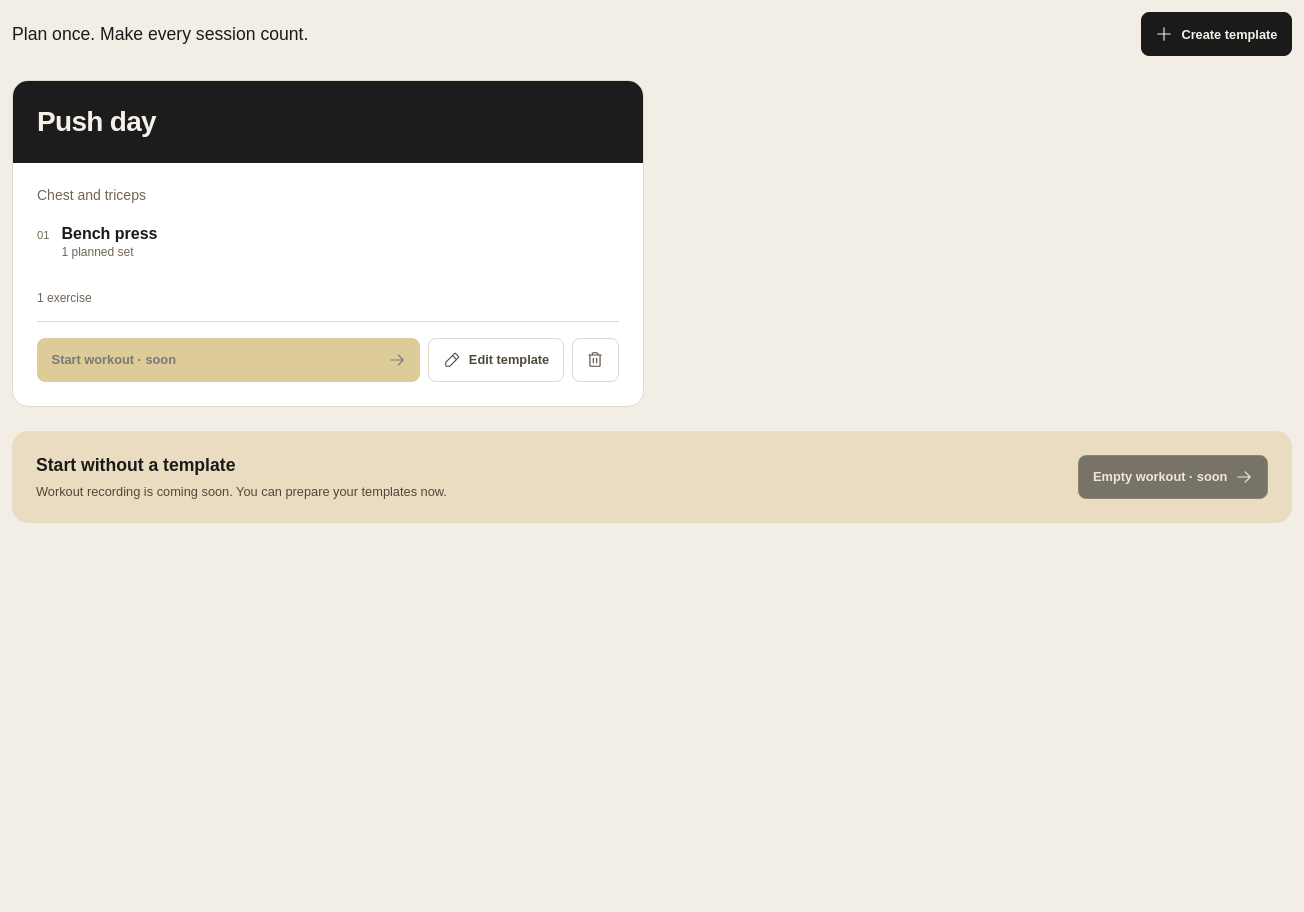
Test: workout templates › requires confirmation before deletion and handles 204
Step 1. Click the button named "Delete Push day" → (595, 360), box [572,338,619,382]
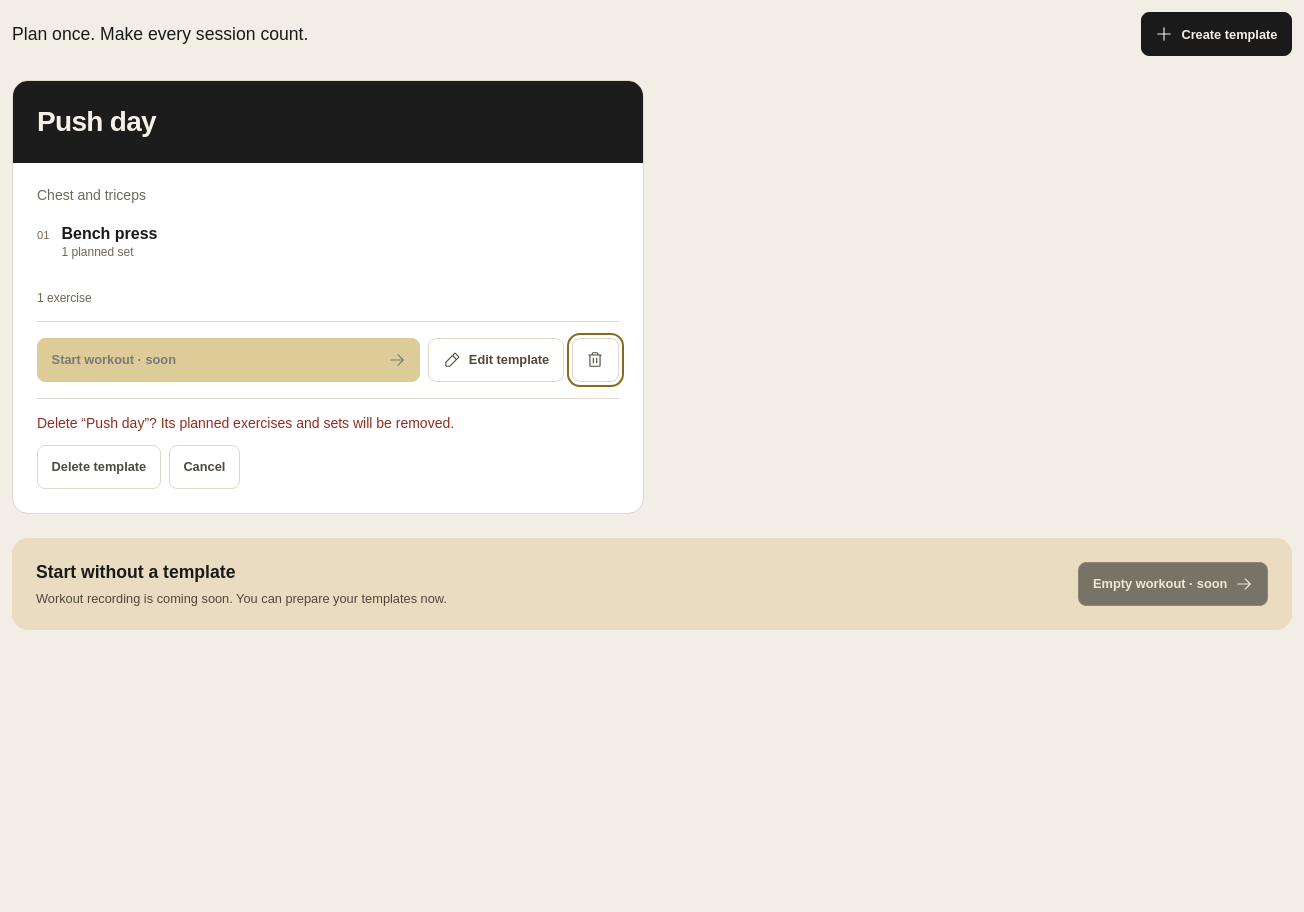
Step 2. Click the button "Delete template" → (99, 467), box [37,445,161,489]
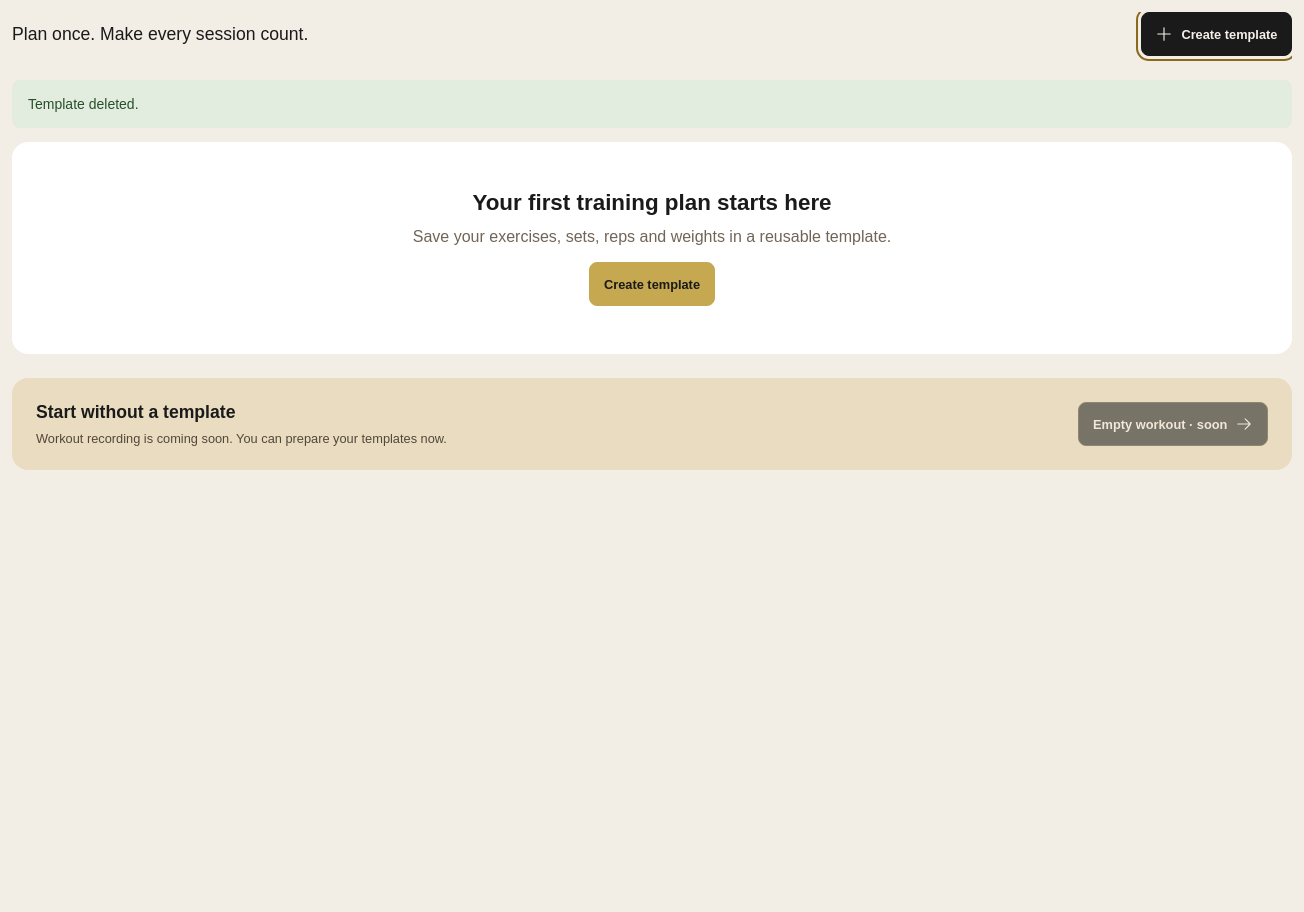
Expected: the text "Template deleted." is shown, [12,80,1292,128]
Expected: the heading "Push day" is gone
